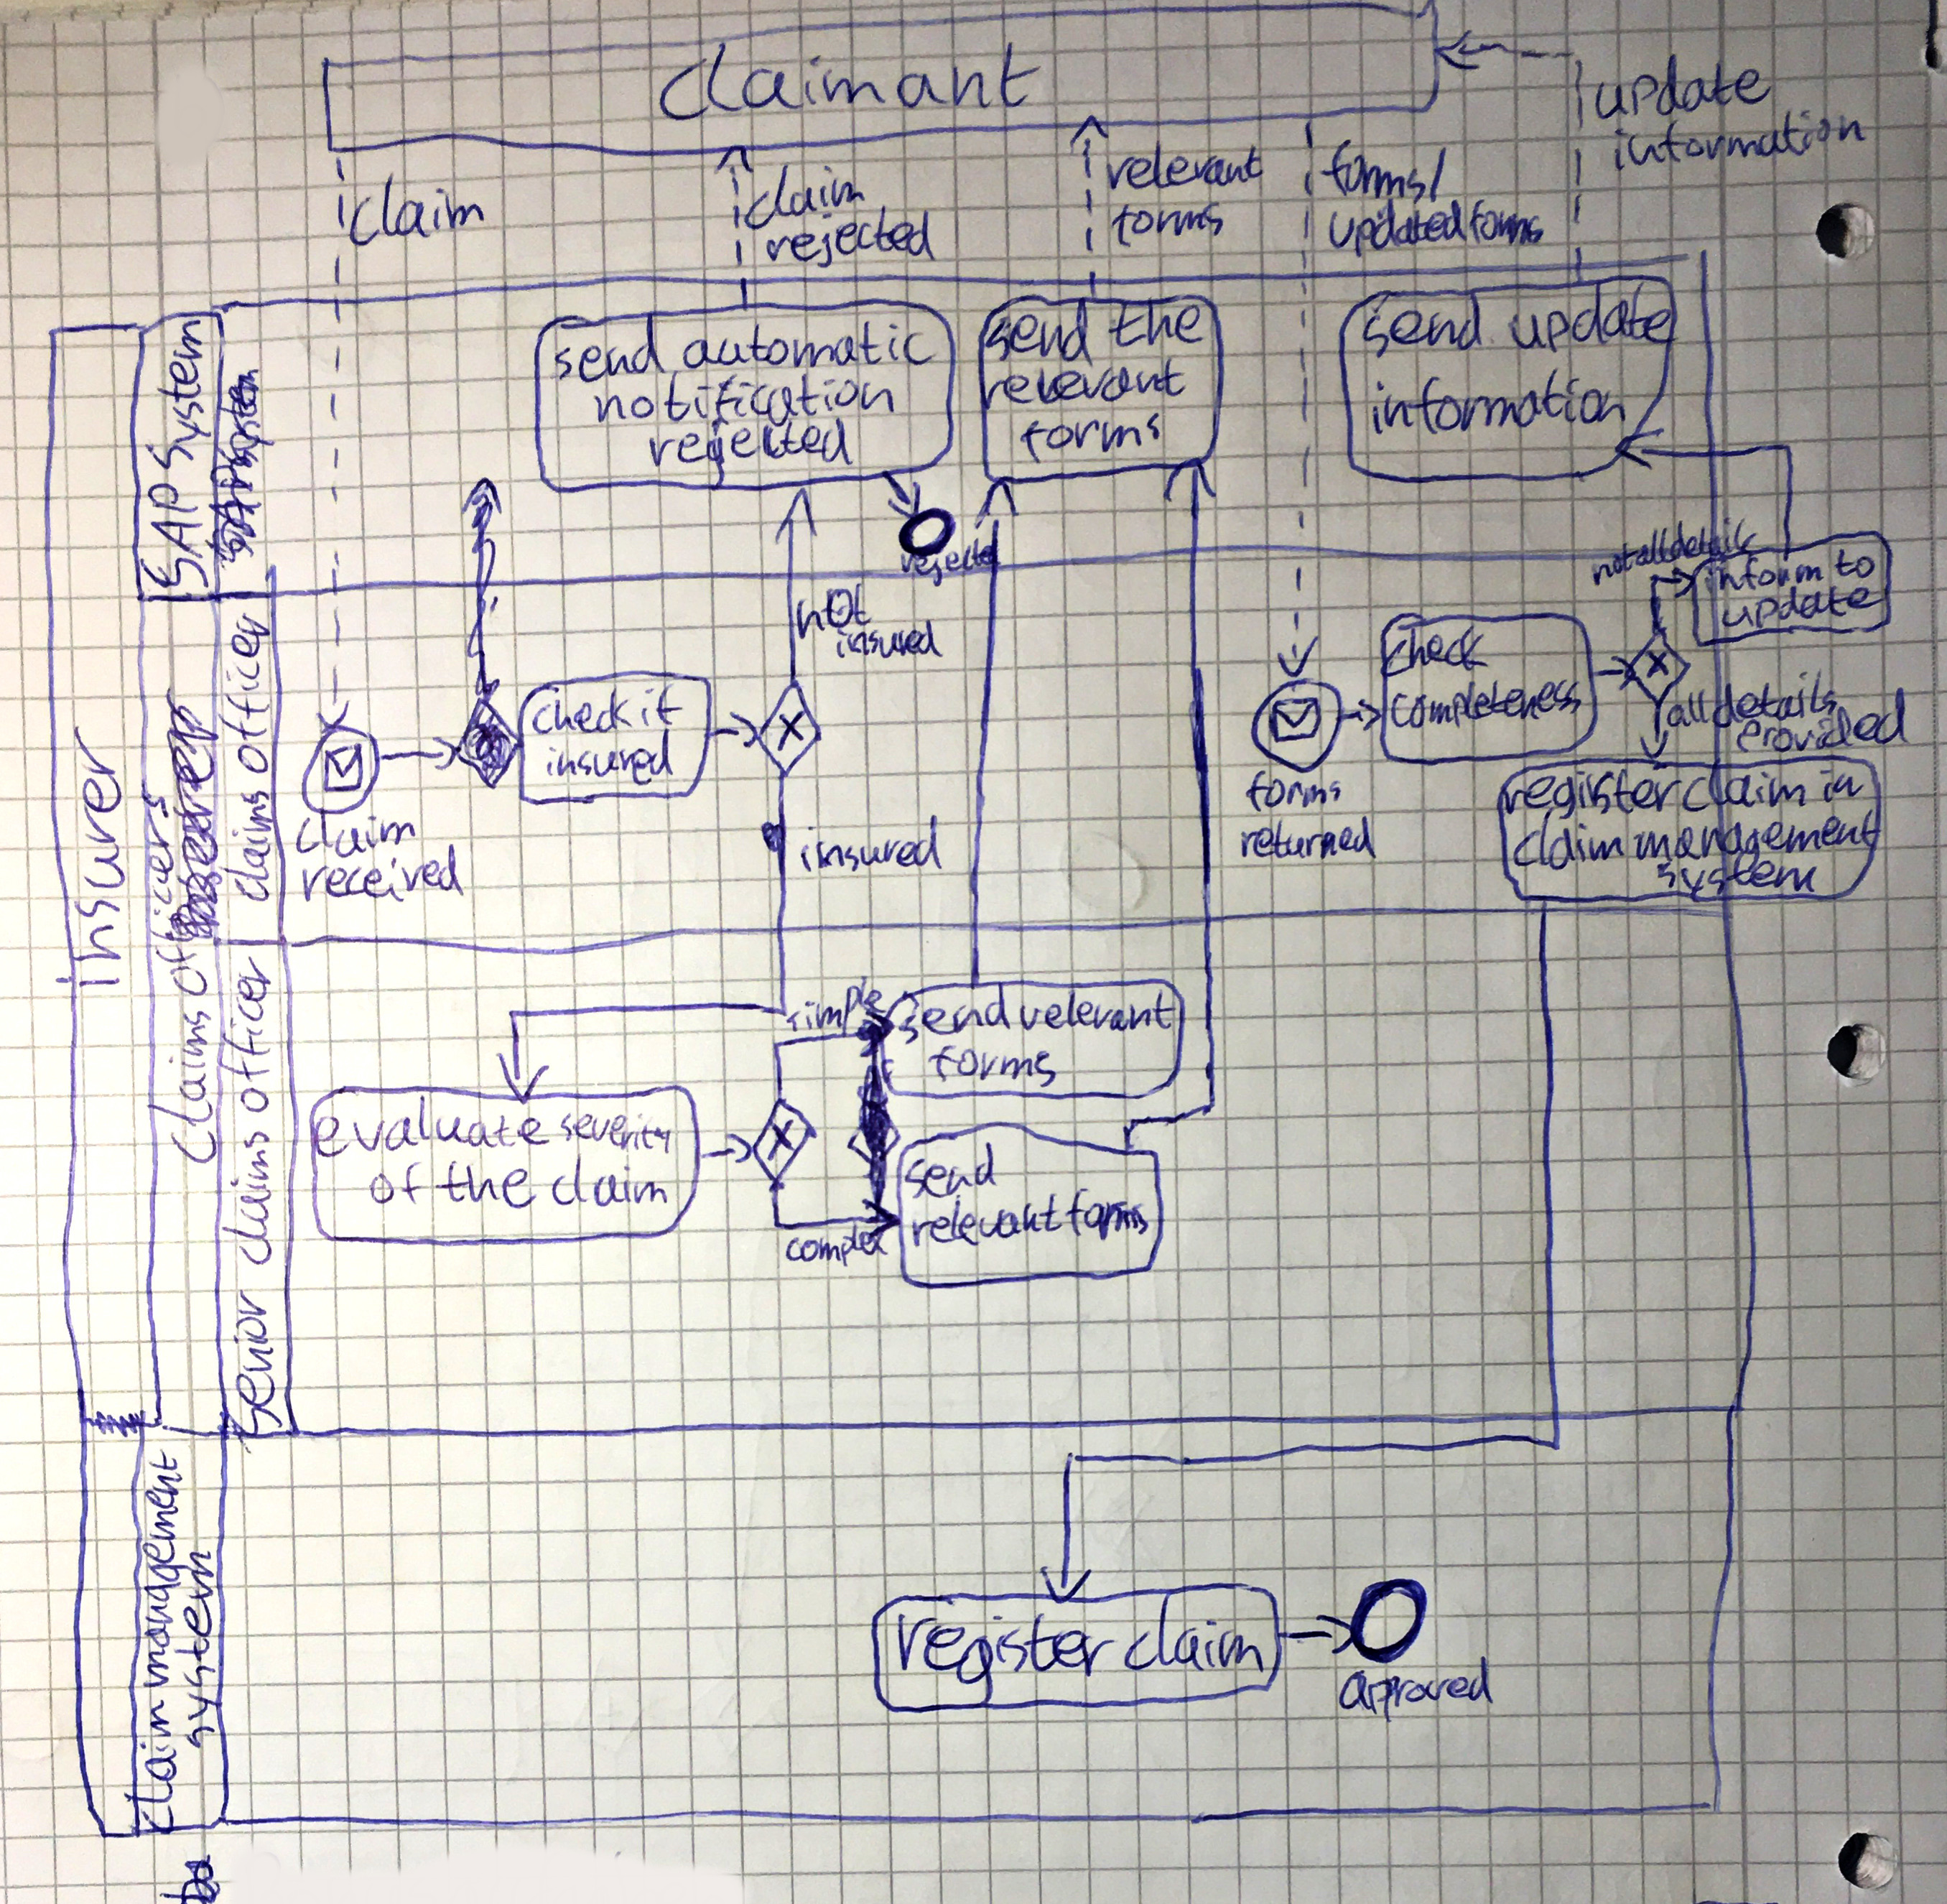Check: (1381, 615, 1490, 680)
Claim: (122, 1688, 187, 1834)
Officer: (129, 771, 220, 997)
Provided: (1736, 685, 1910, 750)
SAP: (141, 485, 207, 600)
Senior: (223, 1285, 282, 1438)
System: (150, 317, 213, 469)
all: (1665, 685, 1710, 727), (1633, 520, 1668, 572)
approved: (1346, 1663, 1494, 1717)
automatic): (680, 310, 933, 375)
check: (530, 683, 633, 741)
claim: (340, 162, 488, 256), (1114, 1595, 1269, 1672), (746, 159, 873, 232), (1686, 765, 1806, 816), (296, 811, 420, 858), (1508, 819, 1625, 868), (551, 1161, 671, 1208)
claimant: (661, 38, 1042, 113)
claims: (162, 1006, 220, 1165), (223, 1130, 282, 1275), (220, 786, 277, 910)
completeness: (1393, 673, 1584, 729)
complex: (783, 1212, 894, 1268)
details: (1715, 671, 1839, 718), (1670, 516, 1759, 558)
evaluate: (315, 1109, 542, 1161)
forms: (1018, 411, 1164, 464), (1107, 197, 1229, 253), (929, 1044, 1062, 1086), (1063, 1189, 1152, 1247), (1455, 195, 1544, 253), (1243, 774, 1346, 813)
forms/: (1314, 134, 1454, 204)
in: (1813, 765, 1865, 806)
inform: (1686, 551, 1828, 603)
information: (1609, 105, 1870, 178), (1361, 375, 1633, 443)
insured: (804, 823, 945, 877), (542, 731, 678, 785), (828, 622, 945, 668)
insurer: (64, 734, 129, 994)
it: (636, 678, 685, 732)
management: (131, 1449, 190, 1688), (1645, 807, 1883, 856)
not: (795, 572, 873, 640), (1588, 532, 1635, 589)
notification: (593, 371, 901, 429)
of: (366, 1161, 431, 1214)
officer: (221, 955, 281, 1119), (218, 624, 275, 774)
received: (302, 849, 467, 907)
register: (882, 1606, 1098, 1688), (1501, 767, 1677, 821)
rejected: (762, 207, 931, 275), (648, 415, 856, 469), (898, 532, 1006, 586)
relevant: (1096, 126, 1272, 195), (976, 359, 1189, 411), (910, 1194, 1056, 1257), (1020, 989, 1180, 1039)
returned: (1232, 819, 1374, 863)
send: (987, 302, 1100, 364), (1356, 298, 1485, 352), (898, 1144, 1007, 1203), (898, 989, 1013, 1039), (547, 333, 668, 380)
severity: (553, 1098, 685, 1151)
simple: (777, 973, 882, 1037)
system: (180, 1547, 225, 1749), (1654, 854, 1827, 898)
the: (438, 1161, 542, 1214), (1117, 295, 1206, 349)
to: (1830, 546, 1879, 582)
update: (1595, 47, 1774, 122), (1513, 293, 1672, 354), (1729, 579, 1874, 628)
updated: (1326, 201, 1461, 260)
